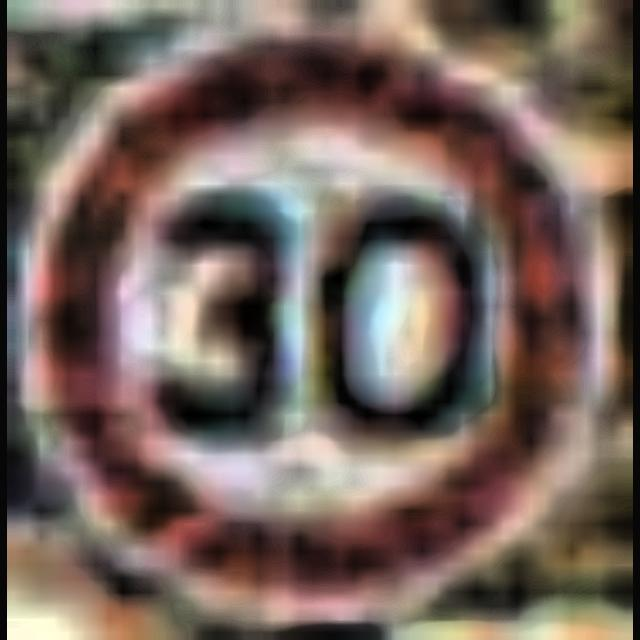speed_30: (41, 32, 587, 594)
